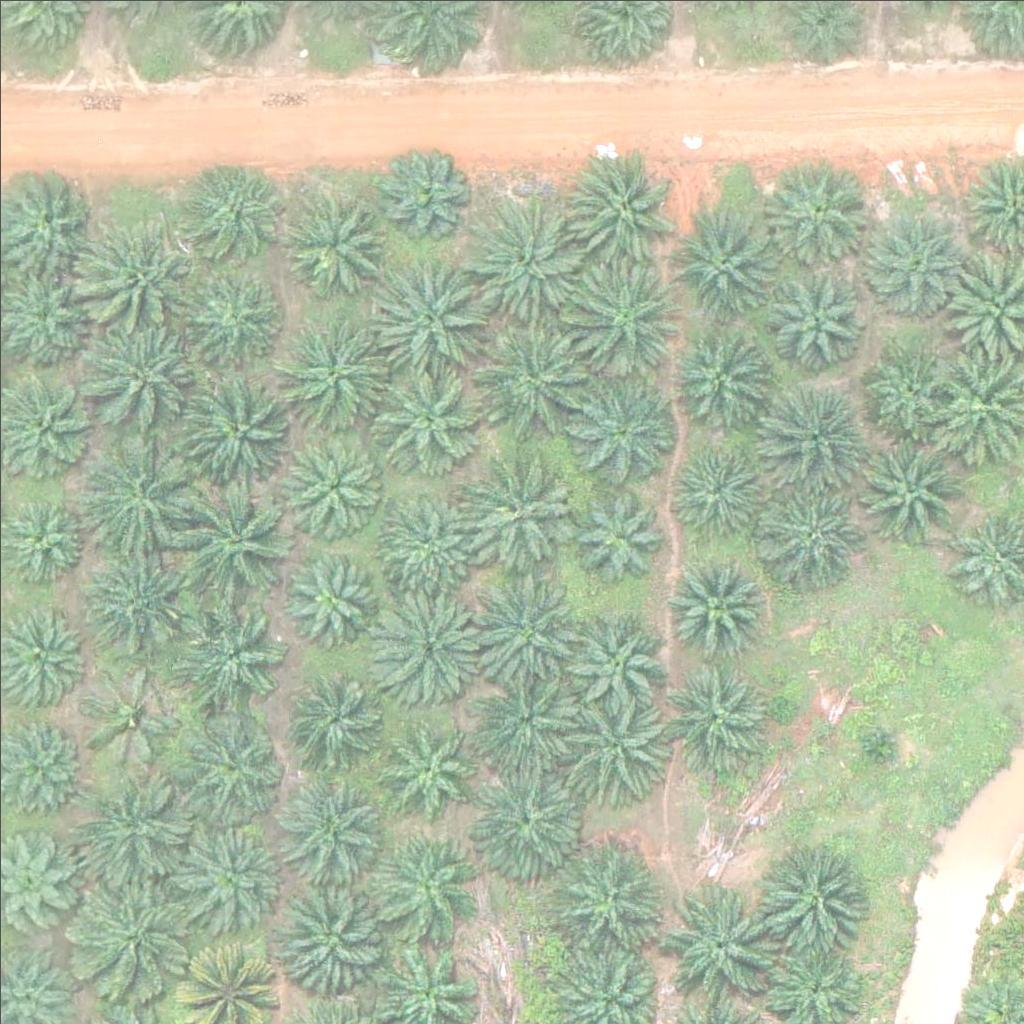Kelapa_Sawit: (180, 374, 293, 488), (373, 590, 486, 704), (464, 574, 577, 688), (470, 197, 583, 311), (573, 257, 686, 371), (757, 156, 870, 270), (670, 204, 783, 318), (86, 321, 199, 434), (83, 550, 196, 663), (79, 770, 192, 883), (75, 882, 188, 995), (181, 481, 294, 594), (272, 875, 385, 988), (278, 317, 391, 430), (368, 356, 481, 469), (459, 457, 572, 570), (759, 836, 872, 949), (758, 378, 871, 491), (84, 435, 196, 549), (368, 827, 480, 941), (567, 373, 679, 487), (84, 216, 196, 329), (176, 602, 288, 715), (277, 180, 389, 293), (367, 259, 479, 372), (467, 753, 579, 866), (478, 324, 590, 437), (562, 147, 674, 260), (556, 845, 668, 958), (556, 697, 668, 810), (668, 888, 780, 1001), (854, 434, 966, 547), (187, 828, 287, 929), (185, 716, 285, 817), (181, 263, 281, 364), (184, 154, 284, 255), (279, 771, 379, 872), (284, 431, 384, 532), (378, 716, 478, 817), (567, 481, 667, 582), (566, 611, 666, 712), (765, 260, 865, 361), (864, 216, 964, 317), (76, 667, 176, 767), (287, 658, 387, 758), (376, 485, 476, 585), (476, 669, 576, 769), (665, 661, 765, 761), (664, 552, 764, 652), (664, 436, 764, 536), (668, 320, 768, 420), (762, 476, 862, 576), (286, 549, 374, 638), (866, 345, 954, 433), (384, 143, 471, 231), (857, 723, 907, 774)
